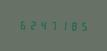eight: (67, 20, 76, 31)
five: (77, 20, 86, 31)
four: (37, 19, 46, 30)
one: (57, 20, 66, 31)
seven: (47, 19, 56, 31)
six: (17, 19, 26, 30)
two: (27, 19, 36, 30)
